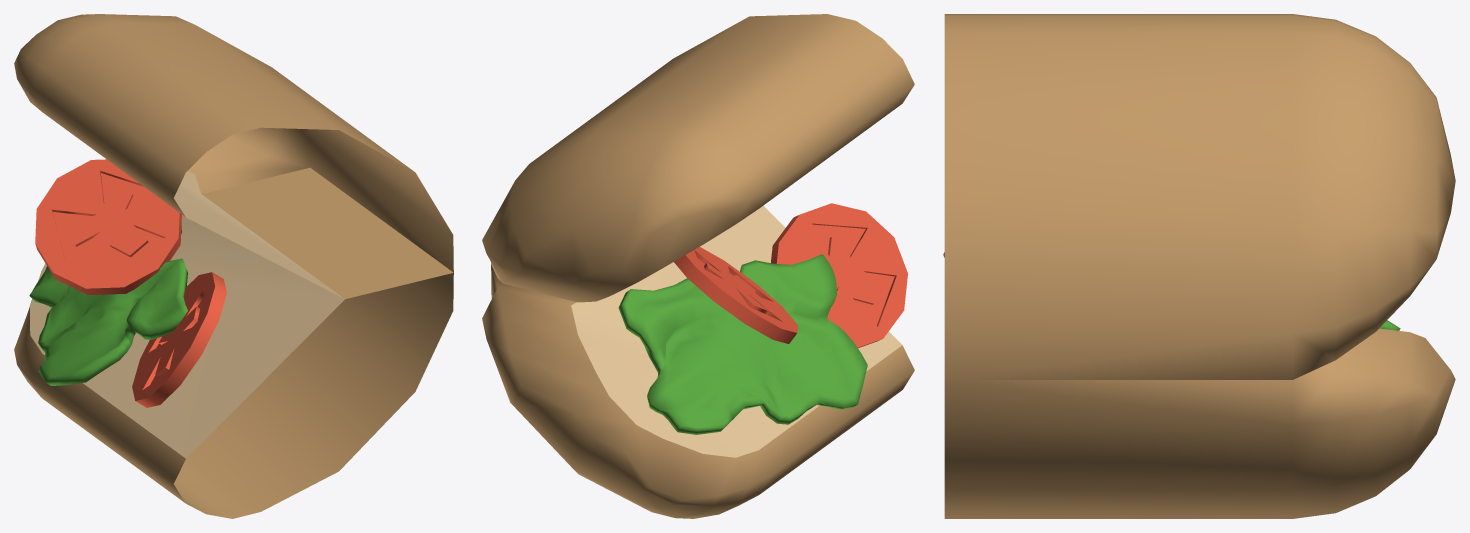
The model's file is Sandwhich End.fbx.
3 renders of one model, left to right at view 1: azimuth 30°, elevation 25°; view 2: azimuth 150°, elevation 25°; view 3: azimuth 270°, elevation 25°, orthographic. The views are drawn at different scales.
Parts seen in each view (by area): view 1: Sandwhich_End; view 2: Sandwhich_End; view 3: Sandwhich_End.
Part boxes in pixels (left/top/right/bottom): Sandwhich_End: left=14, top=14, right=453, bottom=518; Sandwhich_End: left=482, top=14, right=914, bottom=518; Sandwhich_End: left=943, top=14, right=1455, bottom=518.
Bounding box in the file's own units: 20.55 × 23.88 × 23.8.
